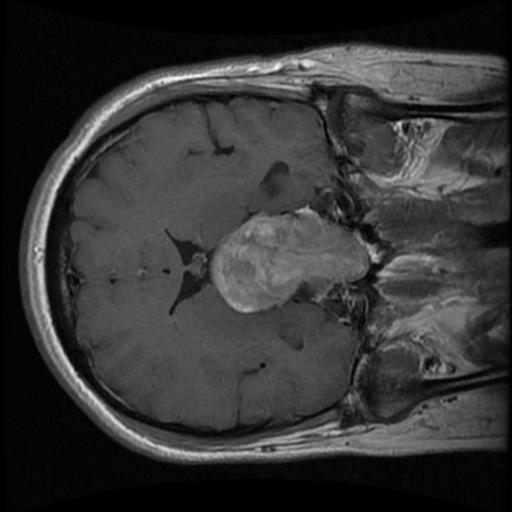pituitary tumour: (213, 210, 367, 314)
